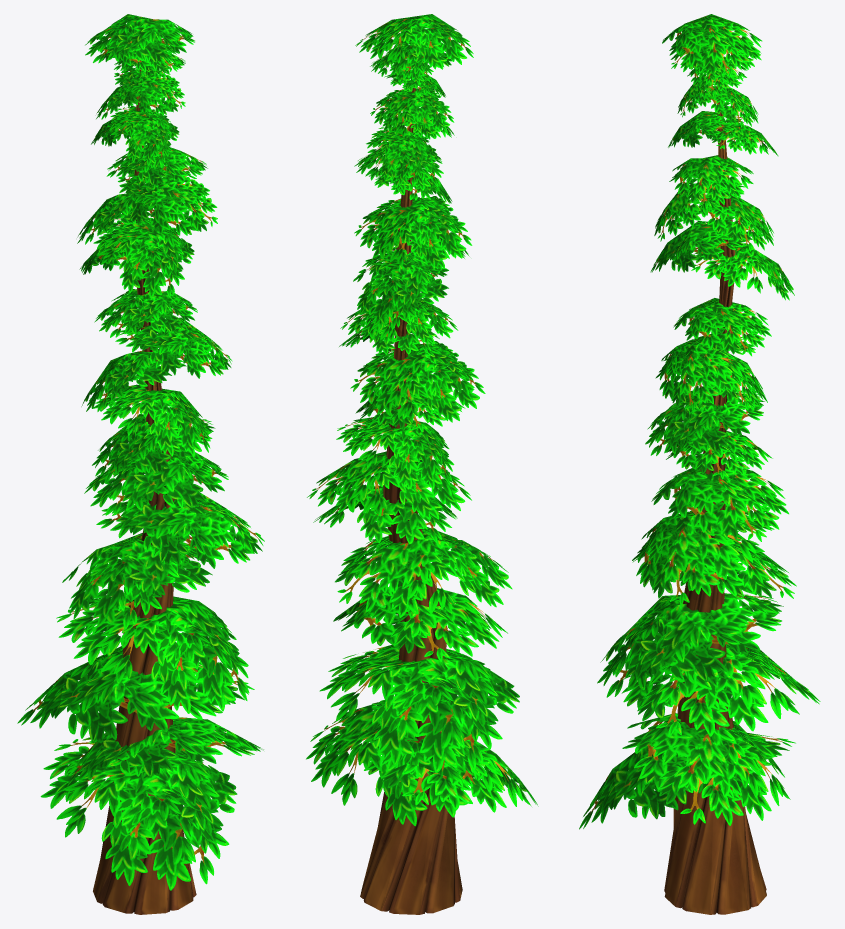
Rendered from 8_Verde_Claro.fbx.
The picture shows the model from 3 angles, left to right: view 1: azimuth 30°, elevation 25°; view 2: azimuth 150°, elevation 25°; view 3: azimuth 270°, elevation 25°; orthographic projection.
Visible parts, largest first — view 1: 8_Verde_Claro; view 2: 8_Verde_Claro; view 3: 8_Verde_Claro.
Boxes of the visible parts, x1,y1,x2,y2 form: 8_Verde_Claro: (17,14,264,914); 8_Verde_Claro: (306,14,538,914); 8_Verde_Claro: (579,14,820,914).
Bounding box in the file's own units: 735 × 2730 × 727.
